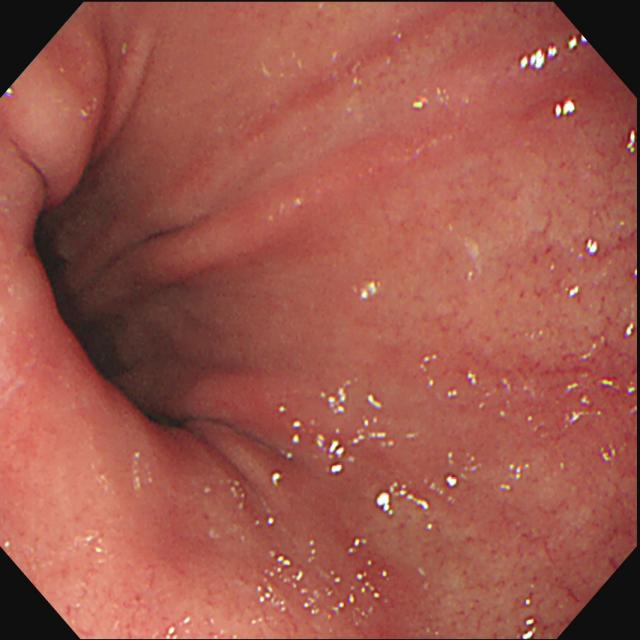I: (15, 170, 227, 462)
U: (254, 534, 392, 627), (270, 382, 392, 484), (374, 474, 460, 514), (517, 35, 590, 72), (517, 588, 538, 640), (162, 614, 204, 639), (351, 274, 384, 301), (552, 96, 579, 120), (567, 408, 591, 426), (583, 236, 603, 257), (624, 127, 638, 153), (598, 374, 618, 392), (565, 283, 584, 301), (462, 369, 481, 387), (623, 320, 637, 338)
